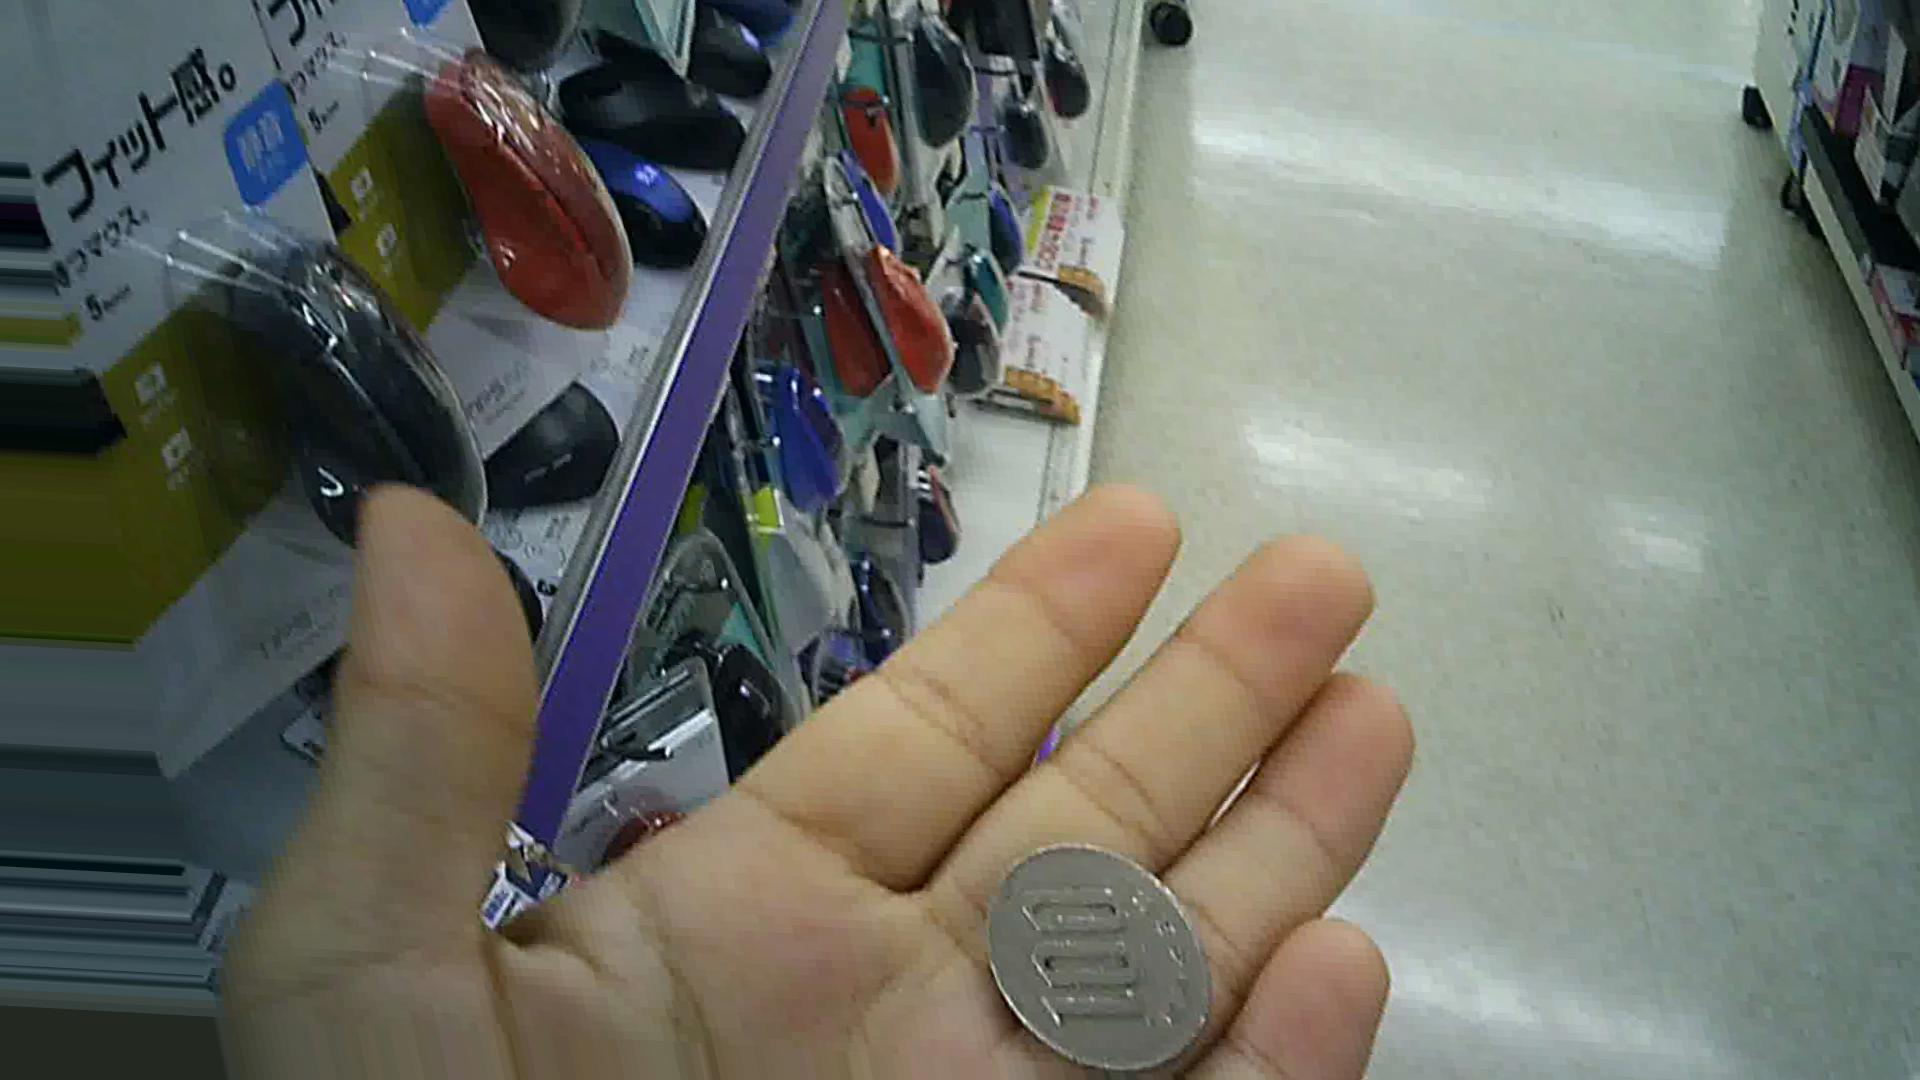100 Yen: (978, 829, 1215, 1067)
